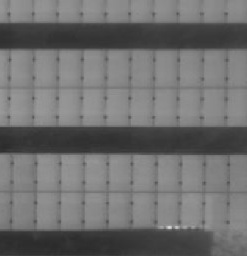solar: (6, 47, 36, 88), (30, 47, 60, 88), (55, 47, 85, 88), (80, 47, 110, 88), (103, 47, 133, 88), (127, 47, 157, 88), (151, 47, 181, 88), (175, 47, 205, 88), (200, 47, 230, 88), (200, 86, 230, 127), (175, 86, 205, 127), (151, 86, 181, 127), (126, 86, 156, 127), (103, 86, 133, 127), (79, 86, 109, 127), (54, 86, 84, 127), (31, 86, 61, 127), (5, 86, 35, 127), (9, 152, 39, 193), (33, 152, 63, 193), (56, 152, 86, 193), (80, 152, 110, 193), (105, 152, 135, 193), (129, 152, 159, 193), (154, 152, 184, 193), (177, 152, 207, 193), (202, 152, 232, 193), (201, 189, 231, 230), (177, 190, 207, 231), (153, 190, 183, 231), (129, 190, 159, 231), (103, 190, 133, 231), (80, 190, 110, 231), (57, 190, 87, 231), (33, 190, 63, 231), (8, 190, 38, 231)
